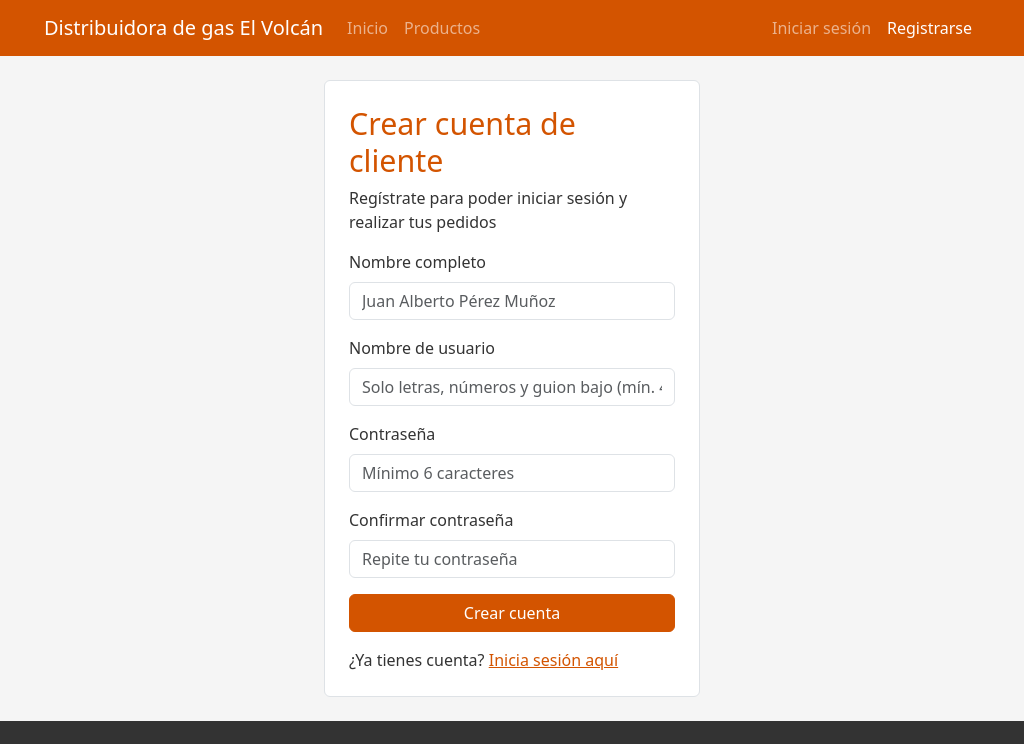
Carrito de visitante › regresa desde registro y login al carrito seleccionado
Earlier steps of the test are not shown.
In the field labelled "Nombre completo": x=512, y=301 [349,282,675,320], type "Cliente Prueba"
In the field labelled "Nombre de usuario": x=512, y=387 [349,368,675,406], type "clienteprueba"
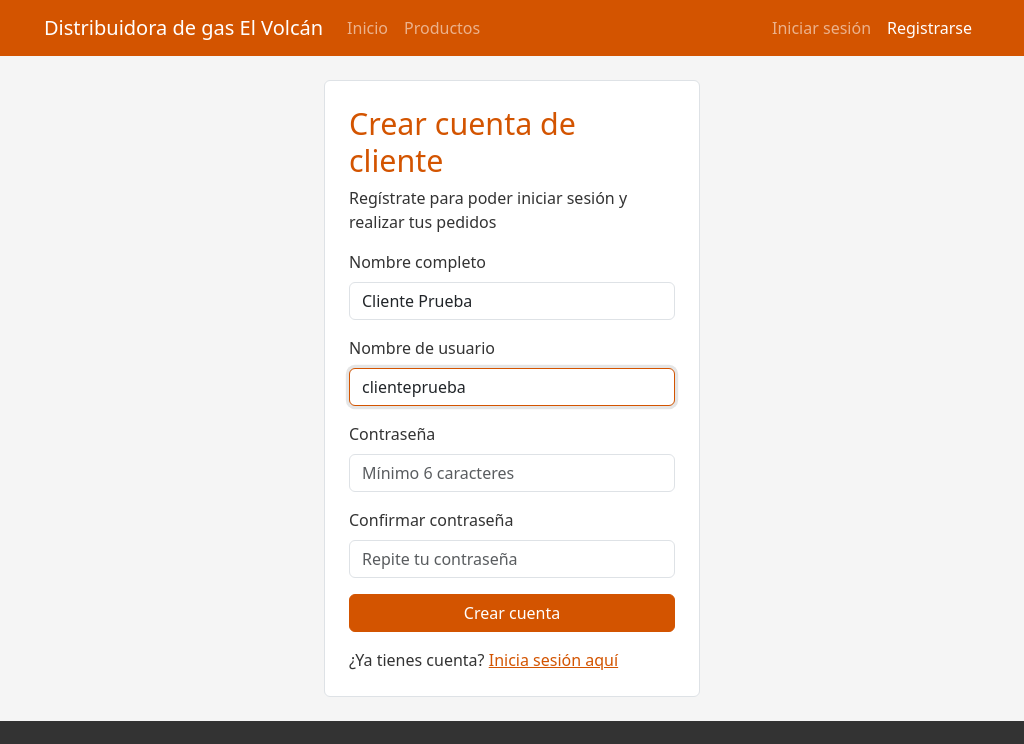
In the password field labelled "Contraseña": x=512, y=473 [349,454,675,492], type "clave123"
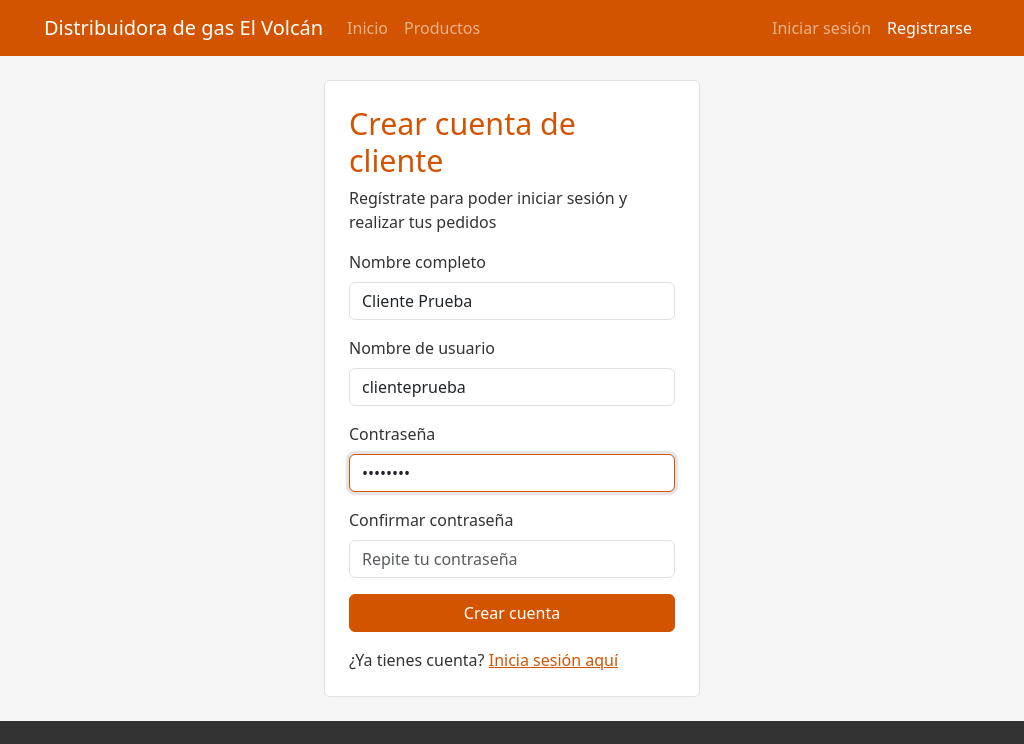
In the password field labelled "Confirmar contraseña": x=512, y=559 [349,540,675,578], type "clave123"
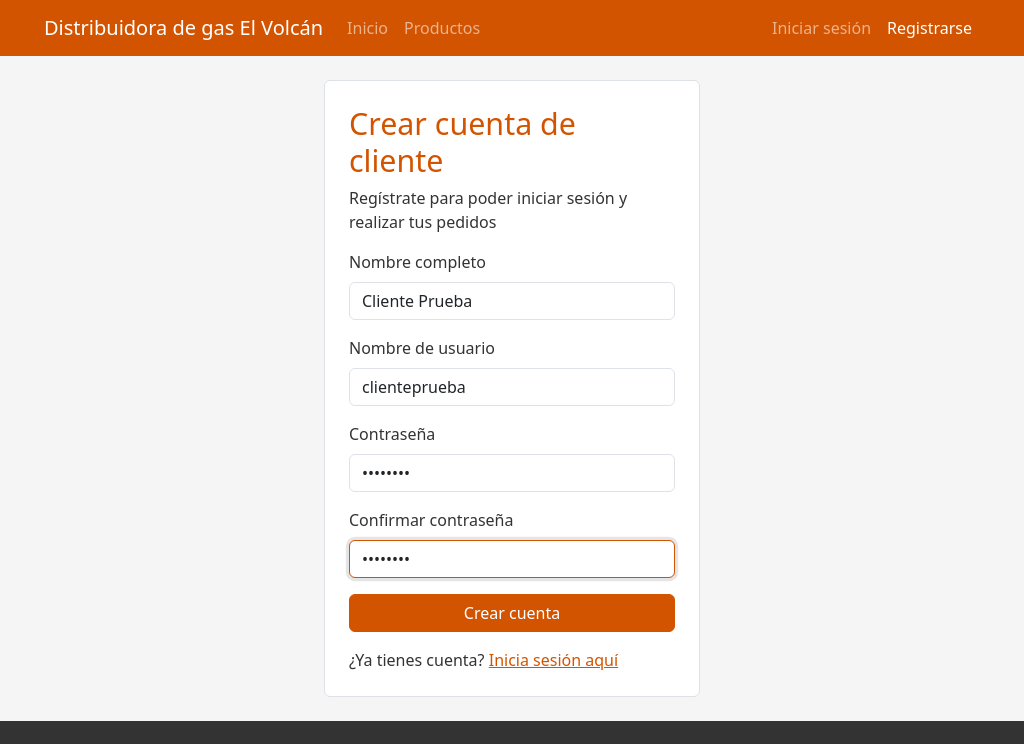
Click the button "Crear cuenta": x=512, y=613 [349,594,675,632]
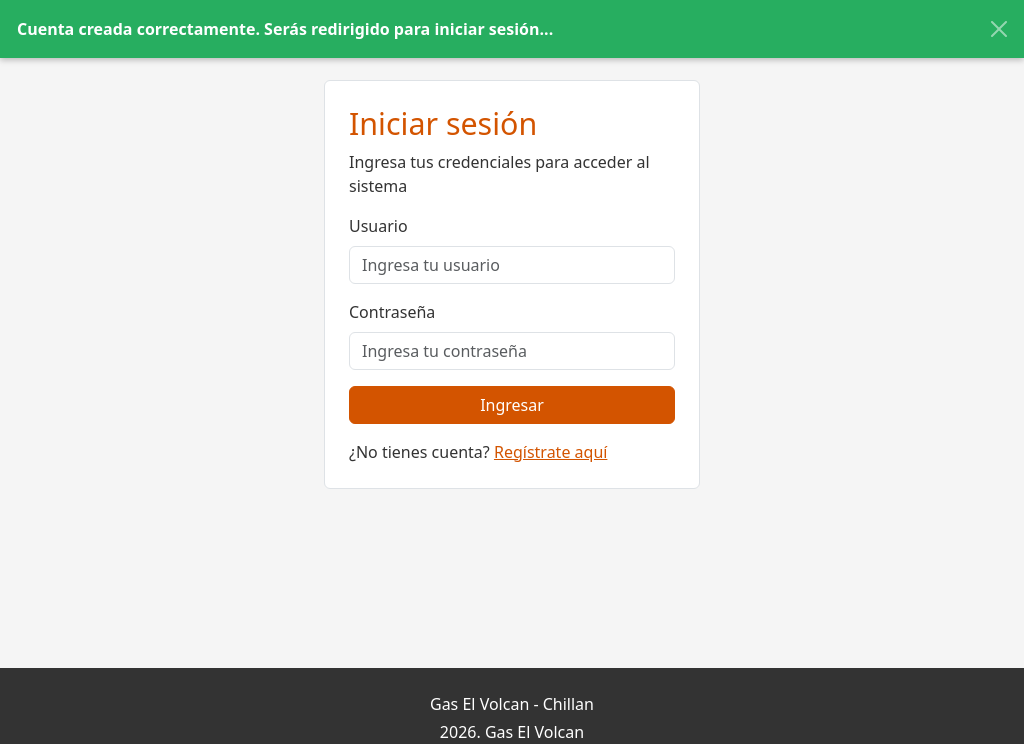
Now the heading "Iniciar sesión" is shown, box [349,102,537,144]
In the field labelled "Usuario": x=512, y=264 [349,246,675,284], type "clienteprueba"
In the password field labelled "Contraseña": x=512, y=350 [349,332,675,370], type "clave123"
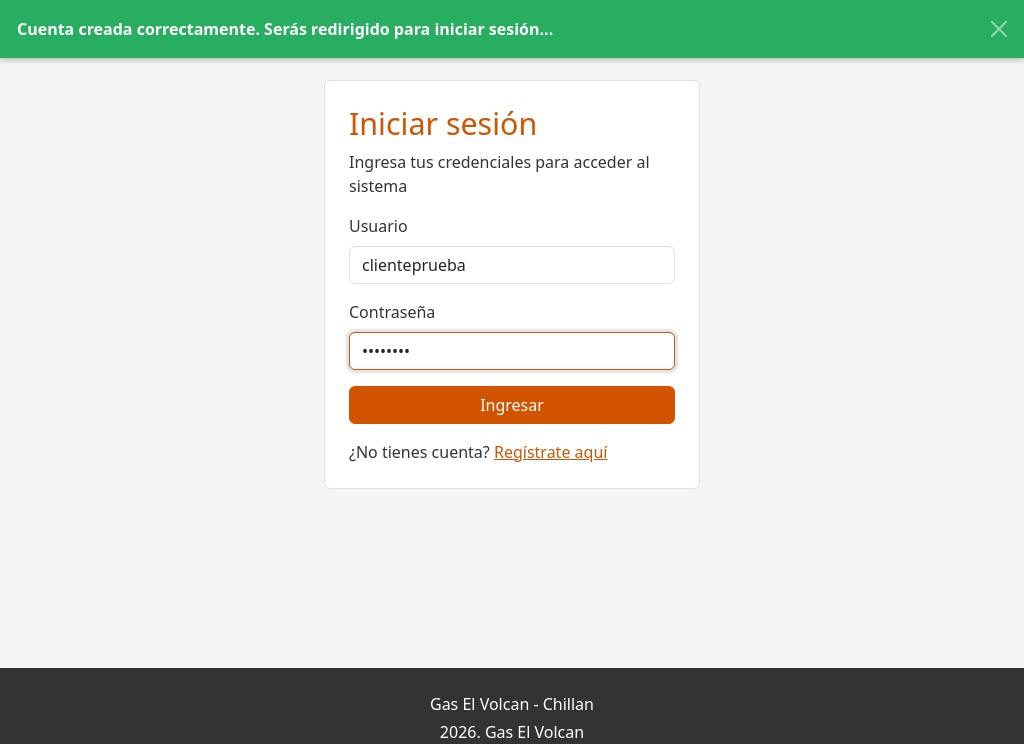
Click the button "Ingresar": x=512, y=404 [349,386,675,424]
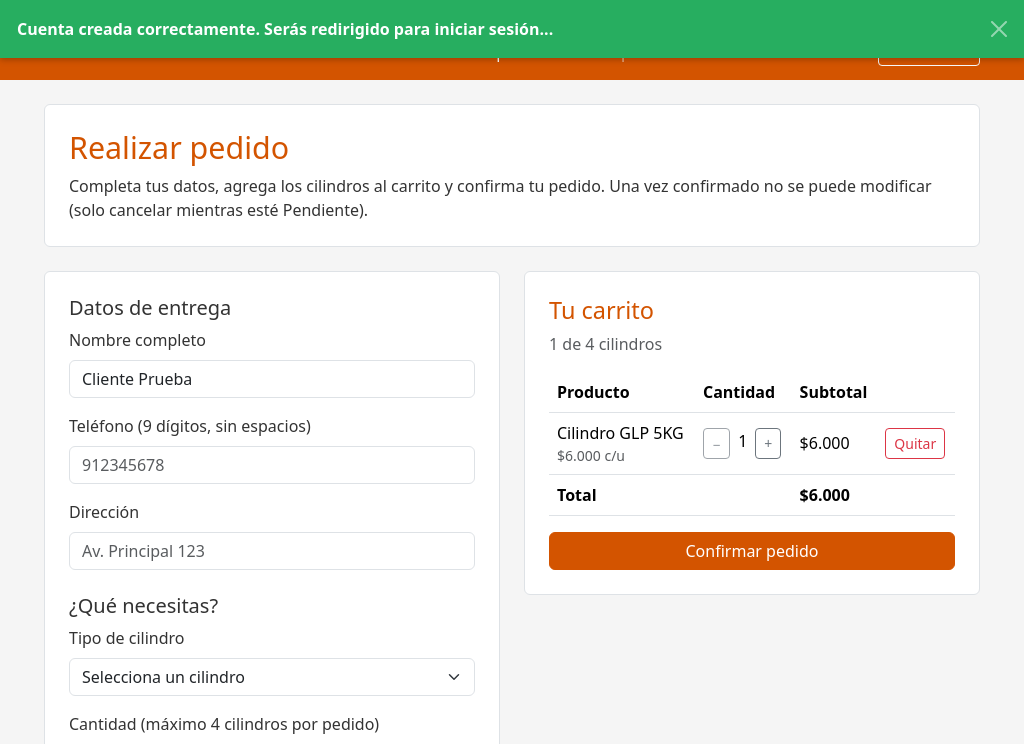
Now the heading "Realizar pedido" is shown, box [69,126,289,168]
Now the text "1 de 4 cilindros" is shown, box [549,333,662,355]
